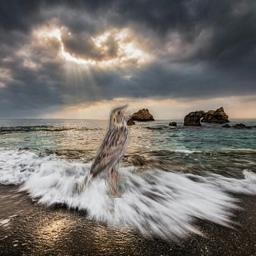Sparrow: (78, 103, 132, 198)
